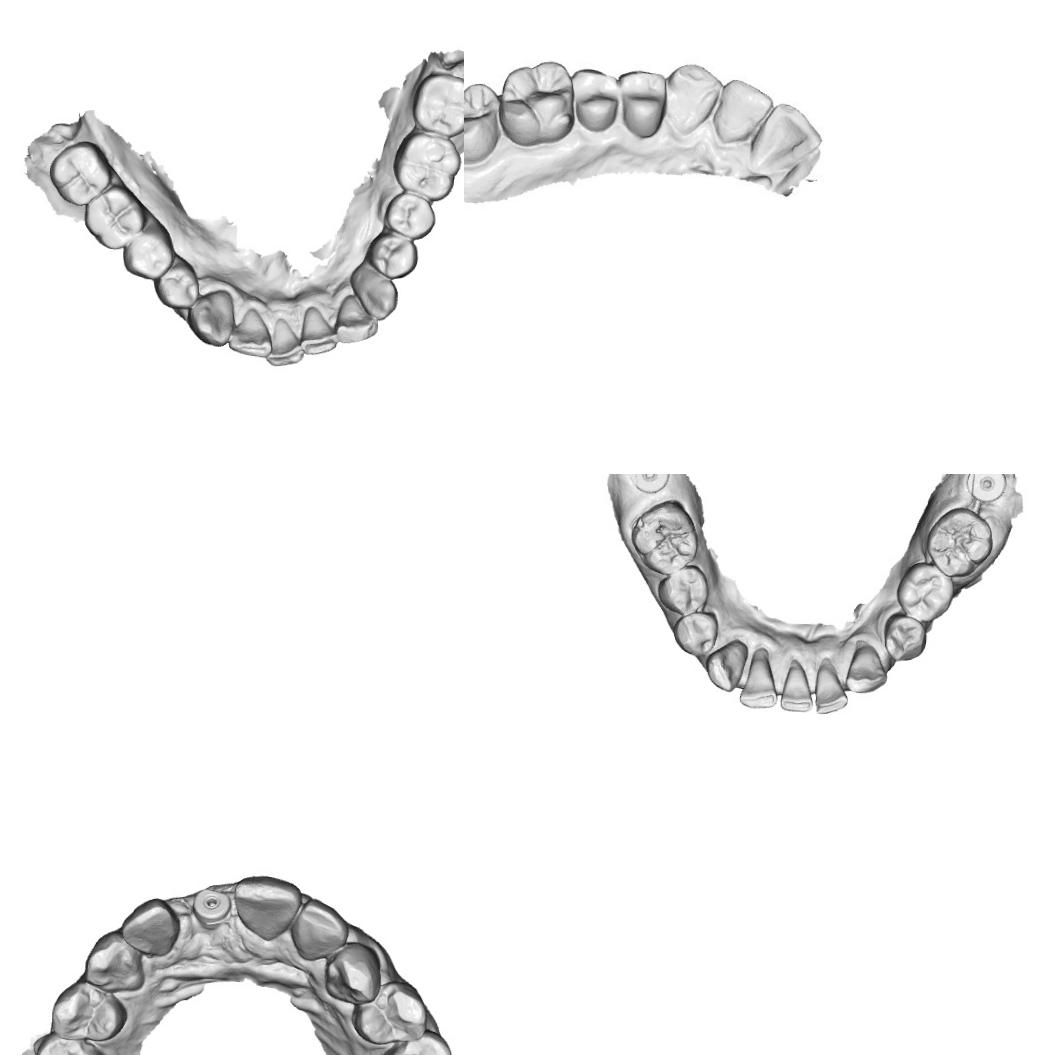canine: (662, 60, 724, 140), (322, 938, 386, 1006), (82, 930, 146, 995), (348, 264, 400, 322), (188, 287, 235, 350), (844, 638, 889, 696), (704, 638, 748, 693)
implant: (188, 884, 234, 930), (964, 474, 1008, 504), (626, 474, 671, 495)
incisor: (230, 874, 304, 940), (288, 894, 352, 965), (118, 896, 182, 960), (750, 101, 810, 162), (716, 79, 775, 137), (737, 646, 780, 710), (332, 291, 380, 347), (228, 304, 274, 360), (813, 657, 850, 716), (299, 304, 339, 356), (779, 658, 815, 714), (266, 318, 305, 368)
molar: (628, 496, 701, 576), (505, 62, 574, 144), (923, 504, 995, 580), (390, 130, 464, 202), (48, 139, 115, 210), (82, 184, 148, 254), (410, 70, 464, 139), (464, 86, 498, 162)
premolar: (47, 979, 132, 1046), (351, 978, 431, 1048), (618, 66, 670, 142), (895, 560, 955, 624), (570, 67, 617, 136), (380, 190, 438, 243), (656, 562, 710, 616), (362, 231, 420, 280), (120, 230, 174, 282), (154, 259, 201, 312), (882, 610, 928, 662), (672, 610, 720, 658), (378, 1029, 454, 1055), (31, 1032, 109, 1055)
